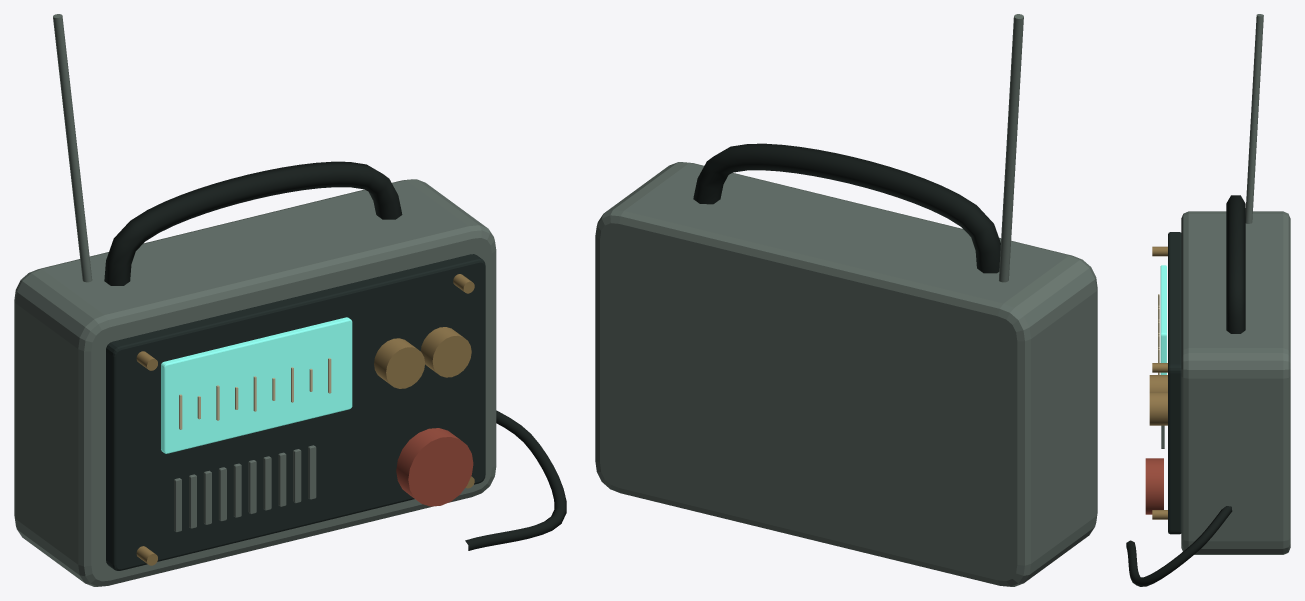
The model's file is radio.glb.
3 views of the same model, side by side, from view 1: azimuth 30°, elevation 25°; view 2: azimuth 150°, elevation 25°; view 3: azimuth 270°, elevation 25° (orthographic). The views are drawn at different scales.
Parts seen in each view (by area): view 1: radio-steel, radio-dark, radio-screen, radio-rubber, radio-brass, radio-red, radio-ivory; view 2: radio-steel, radio-rubber; view 3: radio-steel, radio-rubber, radio-dark, radio-brass, radio-red, radio-screen.
Part boxes in pixels (left/top/right/bottom): radio-steel: left=14, top=14, right=496, bottom=586; radio-dark: left=106, top=254, right=485, bottom=570; radio-screen: left=161, top=317, right=352, bottom=453; radio-rubber: left=104, top=161, right=566, bottom=550; radio-brass: left=136, top=274, right=474, bottom=565; radio-red: left=396, top=428, right=473, bottom=506; radio-ivory: left=179, top=358, right=331, bottom=429; radio-steel: left=595, top=14, right=1097, bottom=586; radio-rubber: left=693, top=143, right=1000, bottom=273; radio-steel: left=1161, top=14, right=1290, bottom=554; radio-rubber: left=1126, top=195, right=1245, bottom=586; radio-dark: left=1168, top=232, right=1181, bottom=534; radio-brass: left=1149, top=246, right=1167, bottom=519; radio-red: left=1145, top=458, right=1163, bottom=514; radio-screen: left=1160, top=265, right=1166, bottom=374.
Bounding box in the file's own units: 1 × 1.14 × 0.4054.
